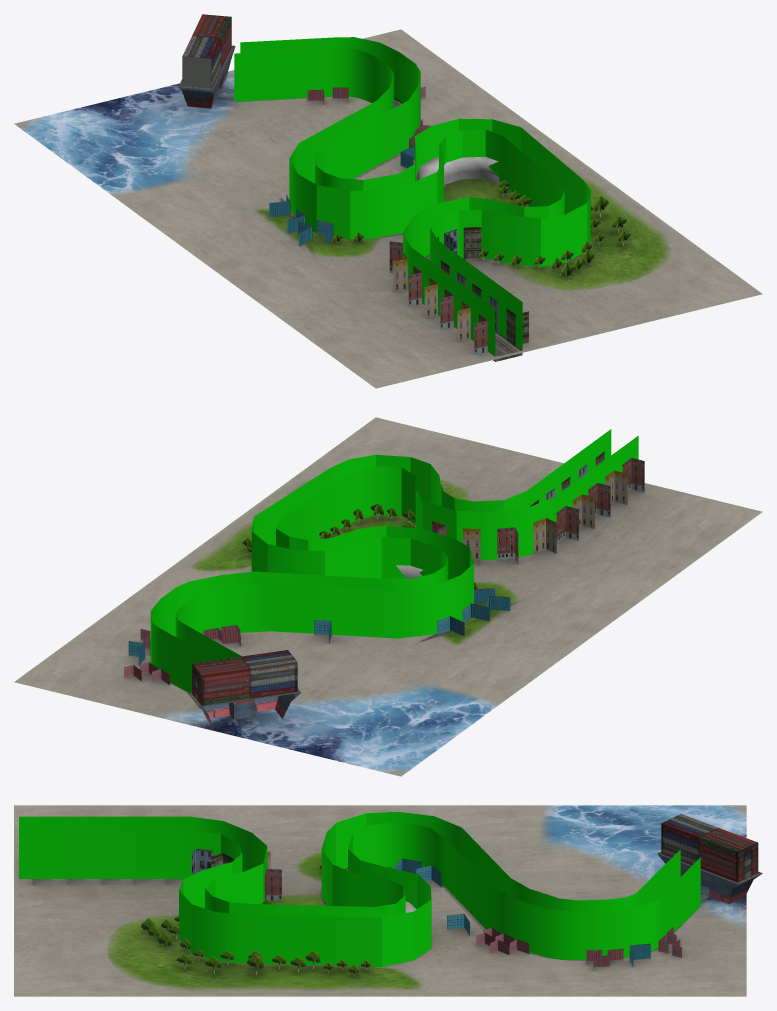
Rendered from environment.fbx.
The picture shows the model from 3 angles, top to bottom: view 1: azimuth 30°, elevation 25°; view 2: azimuth 150°, elevation 25°; view 3: azimuth 270°, elevation 25°; orthographic projection.
Visible parts, largest first — view 1: terrain, barrier, assets; view 2: terrain, barrier, assets; view 3: terrain, barrier, assets.
Part boxes in pixels (<box>): terrain: <box>14,29,762,388</box>; barrier: <box>234,37,590,356</box>; assets: <box>178,14,630,354</box>; terrain: <box>14,417,762,776</box>; barrier: <box>150,429,638,692</box>; assets: <box>124,451,644,727</box>; terrain: <box>14,805,746,996</box>; barrier: <box>19,811,700,966</box>; assets: <box>141,814,762,976</box>.
Bounding box in the file's own units: 232 × 37.8 × 384.
Materials: 3 (2 with a texture image).
